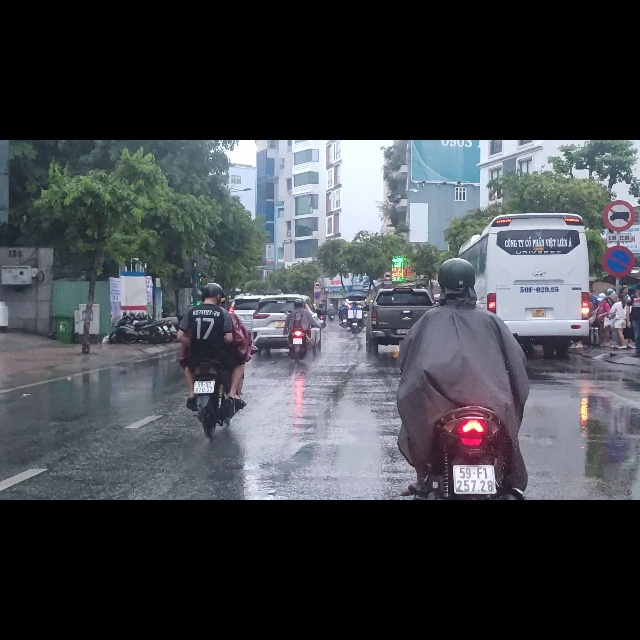bien_cam: (603, 185, 635, 245), (603, 107, 635, 163), (383, 232, 393, 251), (314, 269, 321, 283), (314, 251, 321, 264)
